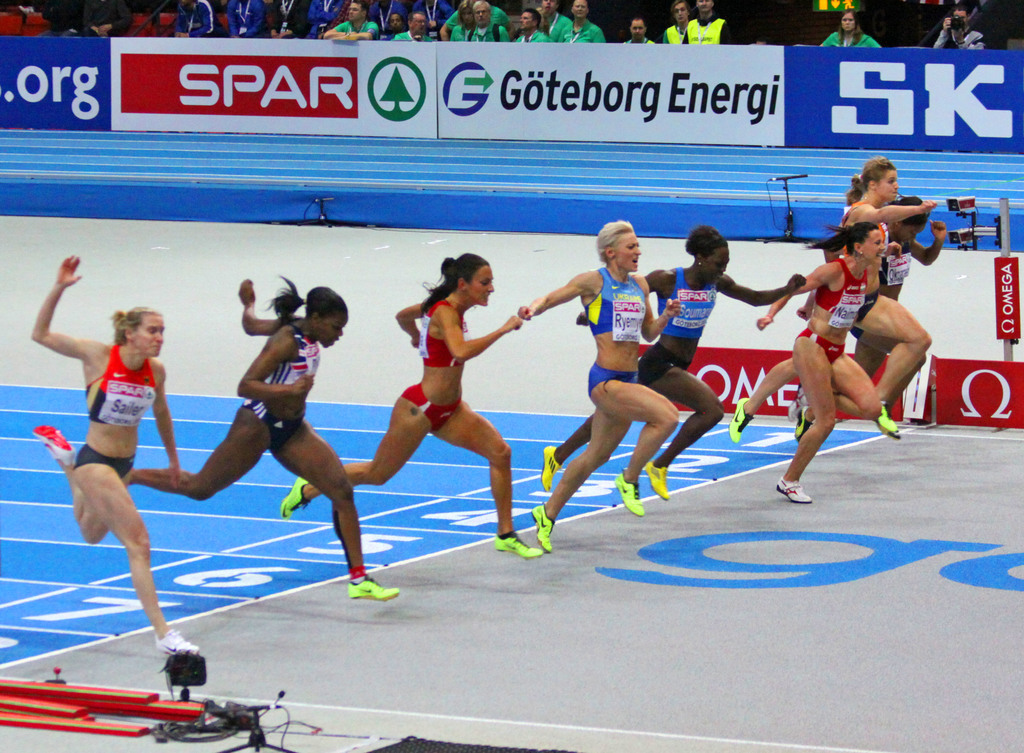Person: (30, 155, 948, 657), (19, 0, 734, 45), (814, 8, 883, 48), (931, 6, 984, 49)
